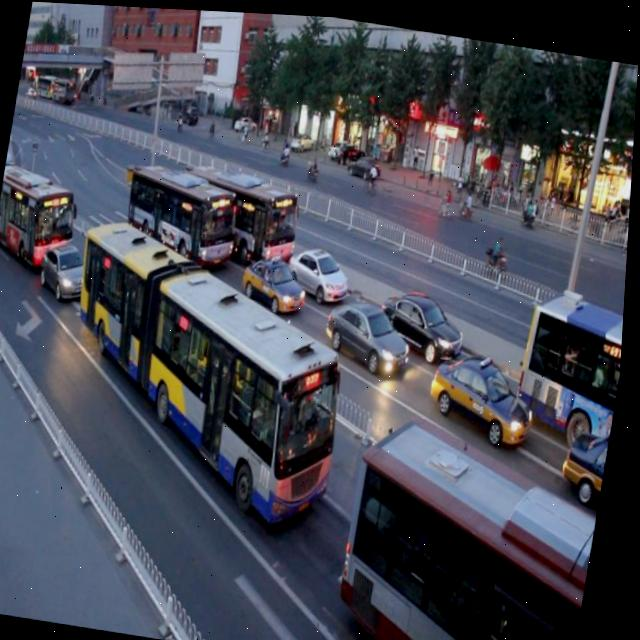car: (425, 339, 544, 449), (319, 285, 415, 375), (378, 278, 472, 360), (237, 242, 312, 314), (283, 232, 354, 303), (560, 411, 616, 498), (38, 235, 100, 305)
van: (47, 206, 370, 528), (336, 410, 613, 640), (513, 276, 628, 434), (118, 150, 246, 276), (178, 152, 307, 269), (0, 155, 83, 261)
